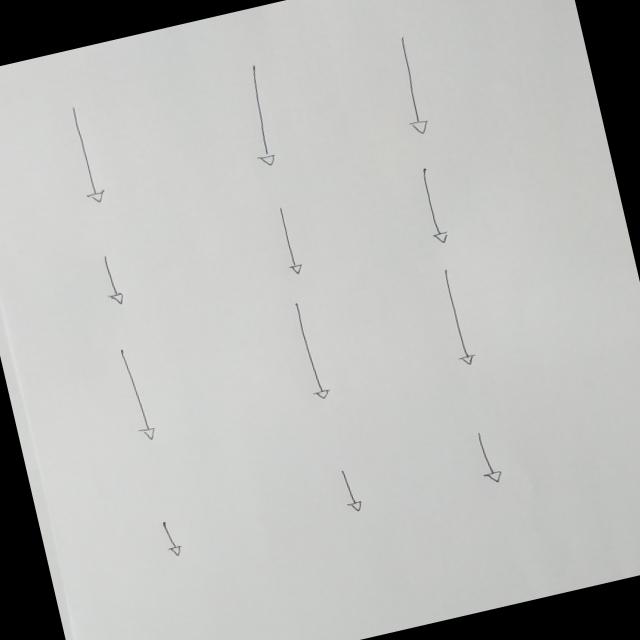arrow_line_down: (59, 102, 113, 212), (106, 340, 162, 446), (234, 60, 283, 170), (285, 296, 332, 402), (388, 31, 434, 139), (434, 264, 478, 368), (412, 162, 450, 246), (268, 202, 306, 279), (467, 426, 506, 487), (94, 250, 128, 310), (332, 464, 367, 514), (155, 516, 184, 560)
